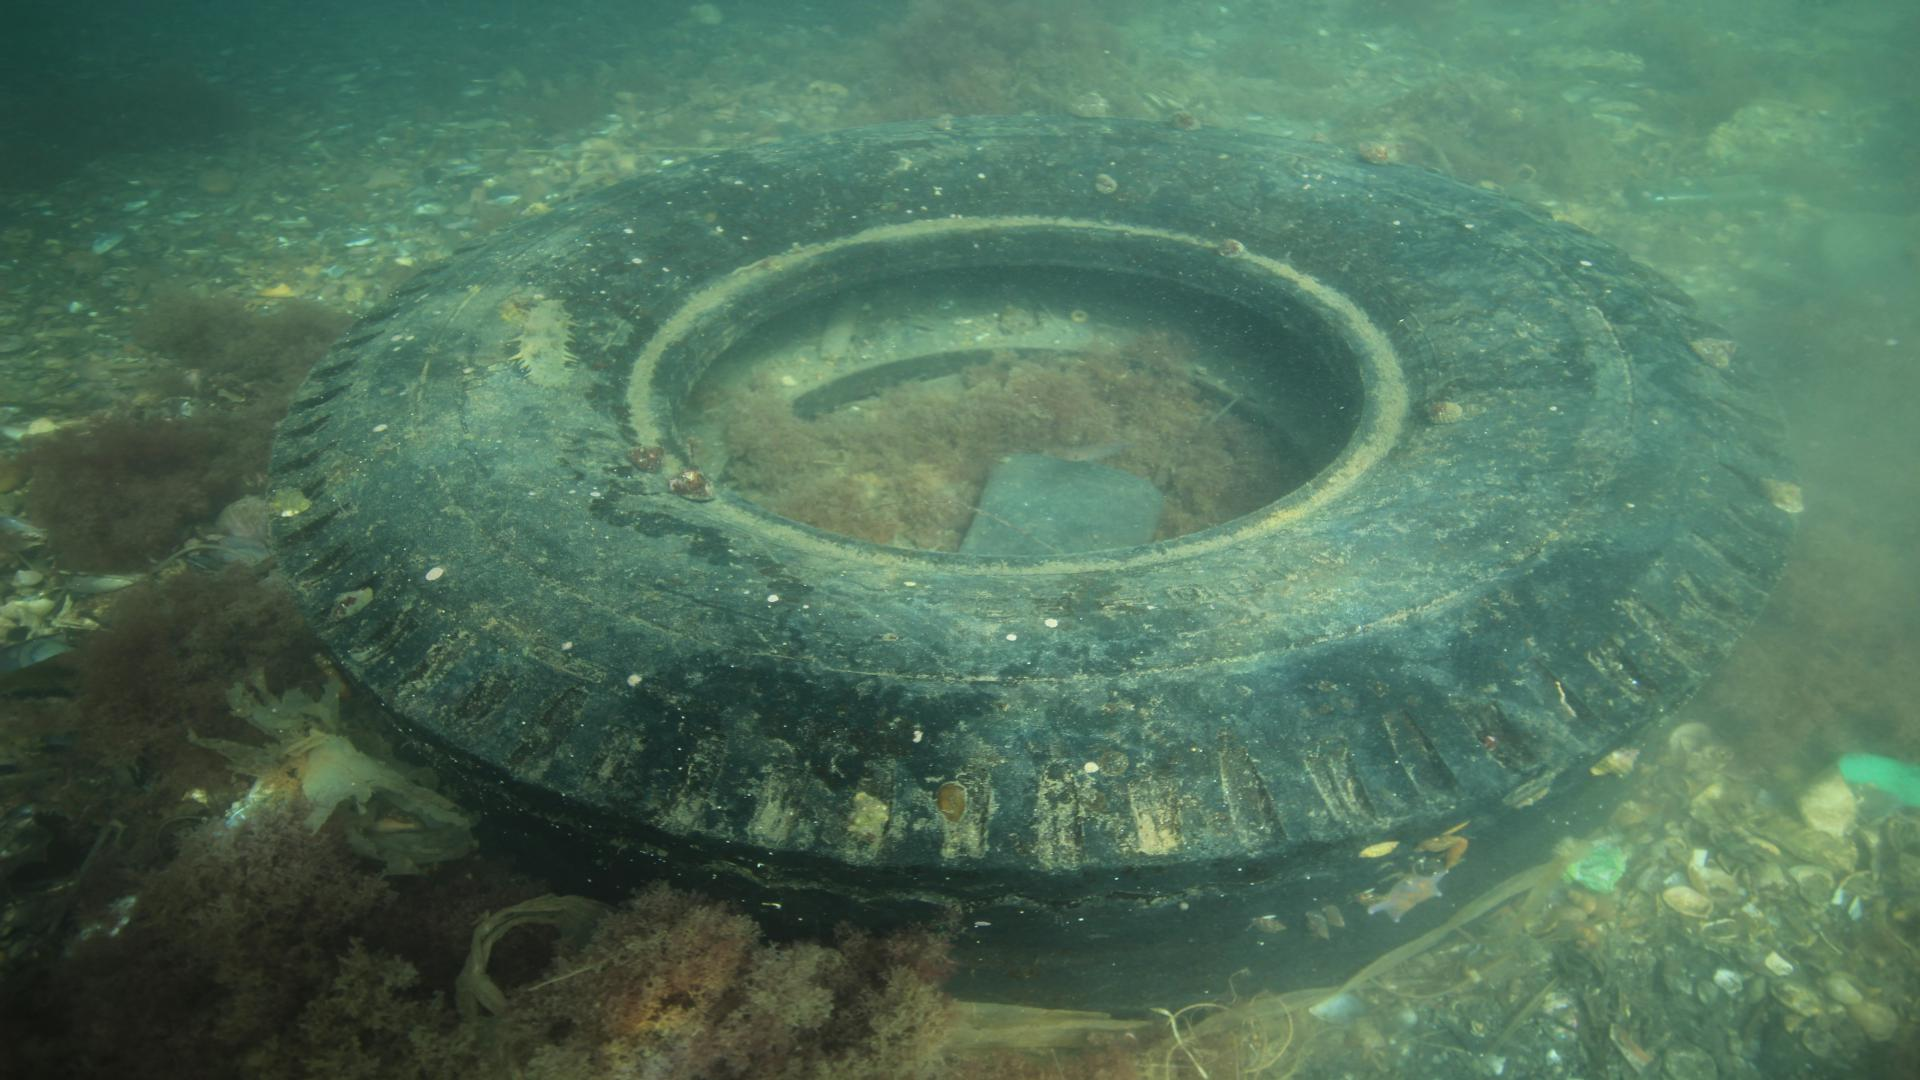tire: (269, 113, 1804, 1011)
